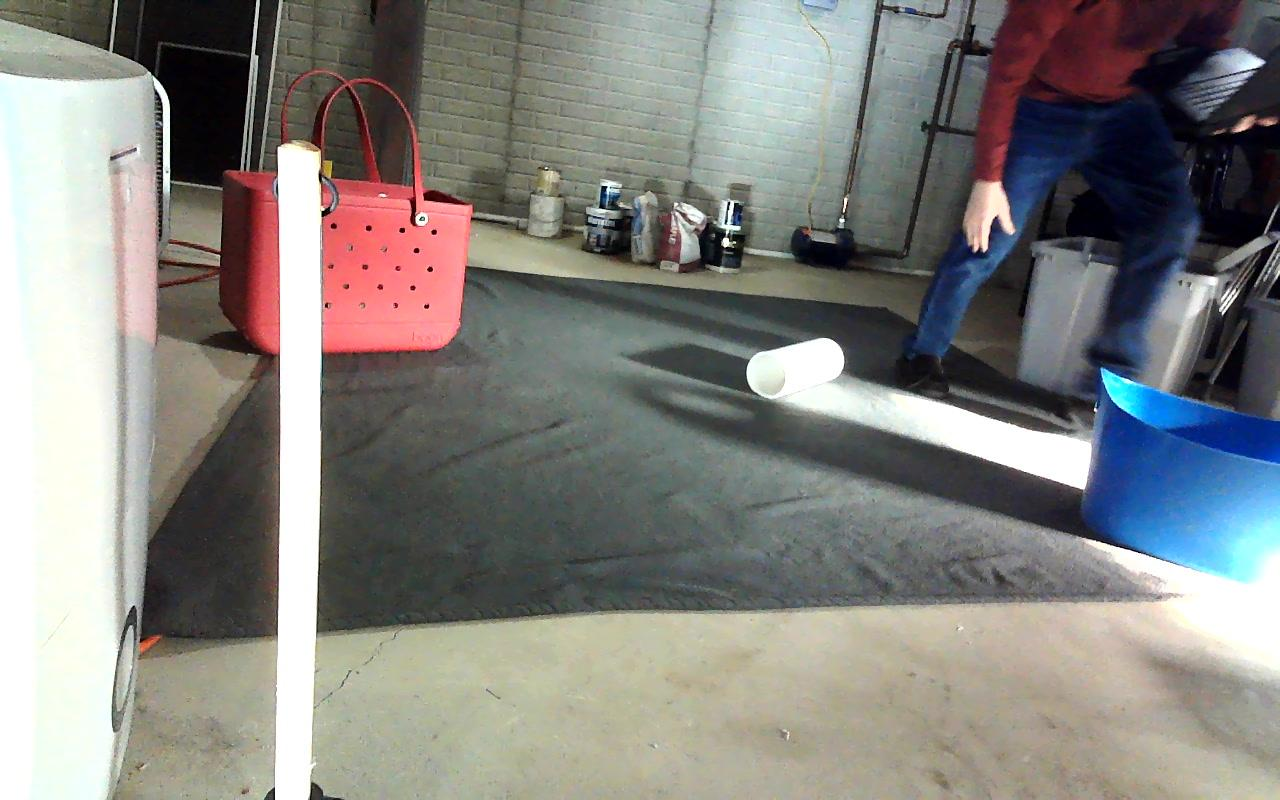coral: (747, 338, 843, 398)
